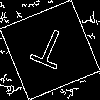T: (25, 25, 71, 79)
